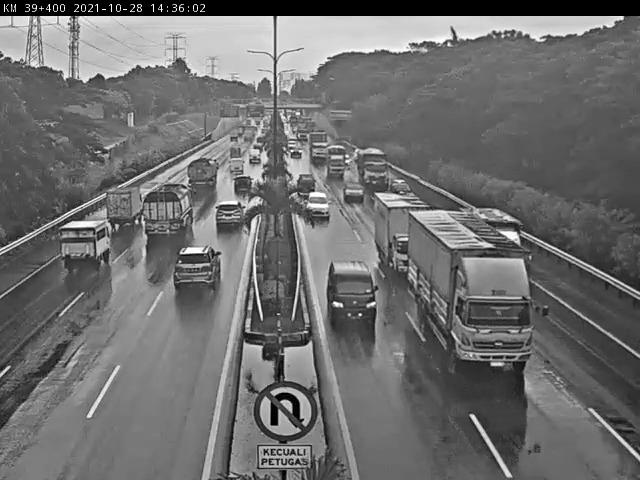big truck: (405, 207, 519, 355), (140, 189, 195, 240), (186, 154, 220, 194), (356, 150, 388, 192)
car: (322, 258, 383, 320), (163, 243, 225, 297), (97, 189, 135, 230), (212, 205, 245, 239), (301, 185, 329, 216), (293, 169, 320, 192), (341, 177, 364, 200), (341, 300, 342, 311)
small truck: (455, 201, 532, 249), (52, 221, 107, 277), (371, 191, 410, 266), (323, 144, 350, 178)
